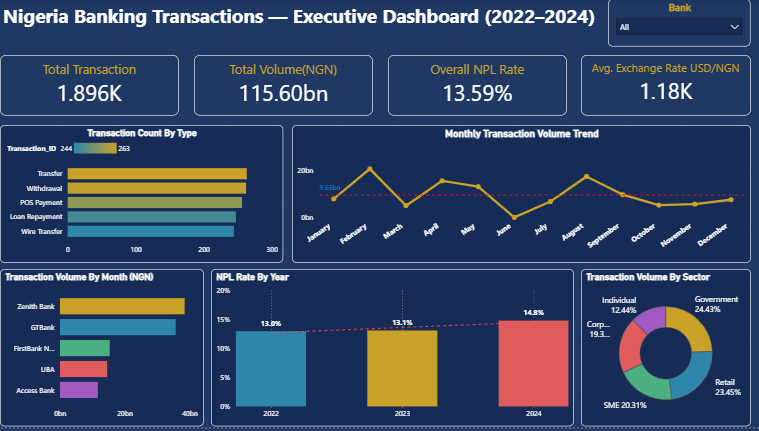

The page's visual inventory and layout, read from the dashboard file:
{"tool":"powerbi","page":{"name":"Page 1","canvas":[1280,720],"ordinal":0},"visuals":[{"type":"textbox","box":[0,0,1033.1,57.1],"z":0},{"type":"textbox","box":[0,94.1,300.7,102.5],"z":1000},{"type":"textbox","box":[326.4,94.1,300.7,102.5],"z":2000},{"type":"textbox","box":[652.9,94.1,300.7,102.5],"z":3000},{"type":"textbox","box":[979.3,94.1,285.6,102.5],"z":4000},{"type":"lineChart","title":"Monthly Transaction Volume Trend","fields":{"Category":["cleaned_data.Date.Variation.Date Hierarchy.Year","cleaned_data.Date.Variation.Date Hierarchy.Quarter","cleaned_data.Date.Variation.Date Hierarchy.Month","cleaned_data.Date.Variation.Date Hierarchy.Day"],"Y":["Sum(cleaned_data.Amount_NGN)"]},"box":[492.2,211.7,772.7,231.8],"z":5000},{"type":"clusteredBarChart","title":"Transaction Volume By Month (NGN)","fields":{"Category":["cleaned_data.Bank"],"Y":["Sum(cleaned_data.Amount_NGN)"]},"box":[0,455.2,342.7,265.4],"z":6000},{"type":"donutChart","title":"Transaction Volume By Sector","fields":{"Category":["cleaned_data.Sector"],"Y":["Sum(cleaned_data.Amount_NGN)"]},"box":[979.3,455.2,285.6,265.4],"z":7000},{"type":"clusteredColumnChart","title":"NPL Rate By Year","fields":{"Y":["cleaned_data.NPL Rate"],"Category":["cleaned_data.Year"]},"box":[356.1,455.2,611.4,265.4],"z":8000},{"type":"clusteredBarChart","title":"Transaction Count By Type","fields":{"Category":["cleaned_data.Transaction_Type"],"Y":["CountNonNull(cleaned_data.Transaction_ID)"]},"box":[0,211.7,477.1,231.8],"z":9000},{"type":"slicer","title":"Bank","fields":{"Values":["cleaned_data.Bank"]},"box":[1024,0,240,80],"z":9001}]}

Visuals, with their boxes in screenshot pixels (x1, y1, x2, y2), scaled from the page's 1280x720 canvas onto the 759x431 screenshot:
textbox: <box>0,0,613,34</box>
textbox: <box>0,56,178,118</box>
textbox: <box>194,56,372,118</box>
textbox: <box>387,56,565,118</box>
textbox: <box>581,56,750,118</box>
"Monthly Transaction Volume Trend" lineChart: <box>292,127,750,265</box>
"Transaction Volume By Month (NGN)" clusteredBarChart: <box>0,272,203,430</box>
"Transaction Volume By Sector" donutChart: <box>581,272,750,430</box>
"NPL Rate By Year" clusteredColumnChart: <box>211,272,574,430</box>
"Transaction Count By Type" clusteredBarChart: <box>0,127,283,265</box>
"Bank" slicer: <box>607,0,750,48</box>
